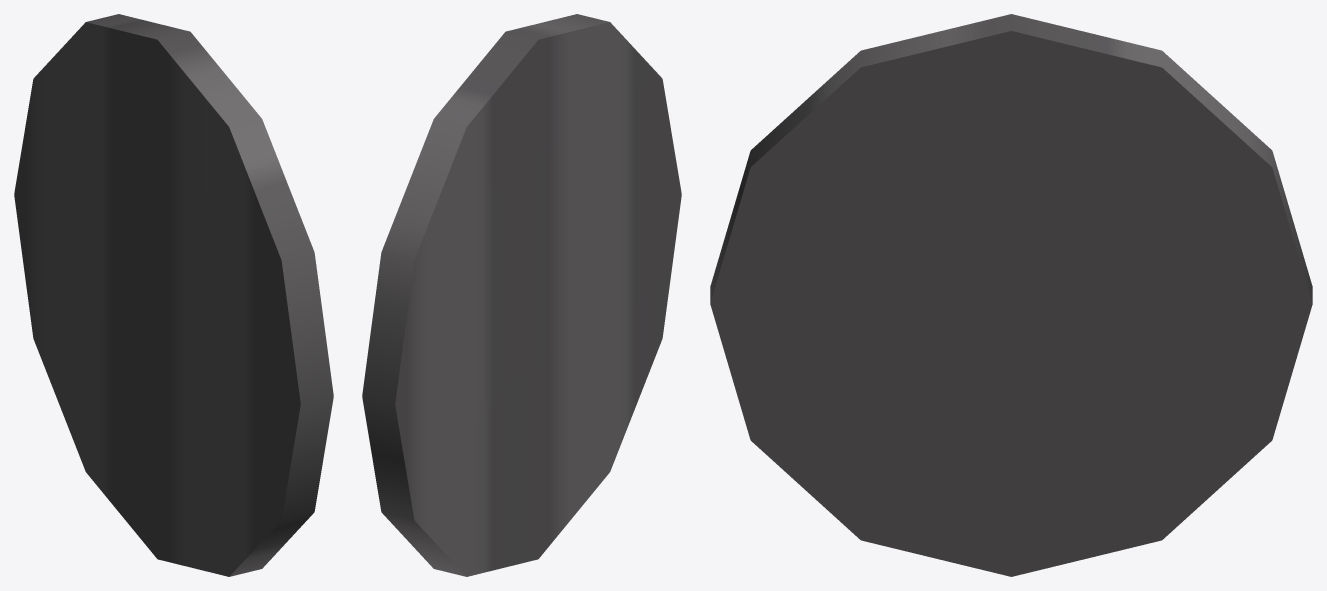
Rendered from Sign_36.fbx.
The picture shows the model from 3 angles, left to right: view 1: azimuth 30°, elevation 25°; view 2: azimuth 150°, elevation 25°; view 3: azimuth 270°, elevation 25°; orthographic projection. The views are drawn at different scales.
Visible parts, largest first — view 1: Sign_36; view 2: Sign_36; view 3: Sign_36.
Part boxes in pixels (x1=…): Sign_36: x1=14, y1=14, x2=333, y2=576; Sign_36: x1=362, y1=14, x2=681, y2=576; Sign_36: x1=710, y1=14, x2=1312, y2=576.
Size of the model in its own units: 6 by 90.23 by 90.23.
